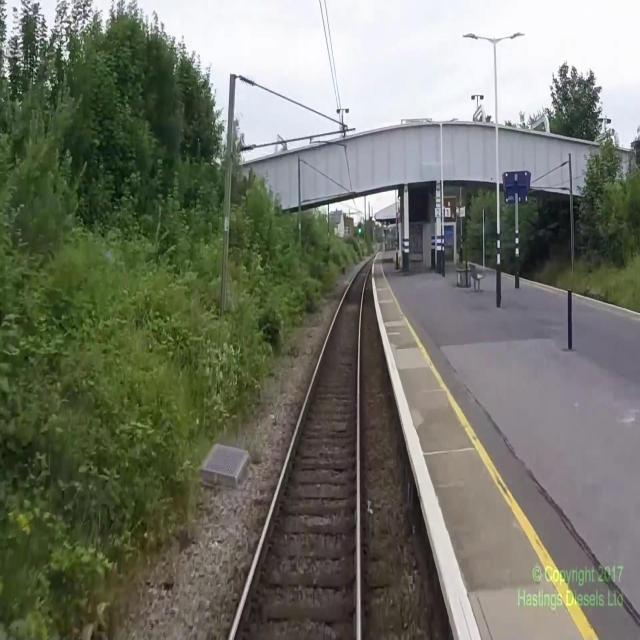rail-track: (233, 258, 374, 639)
